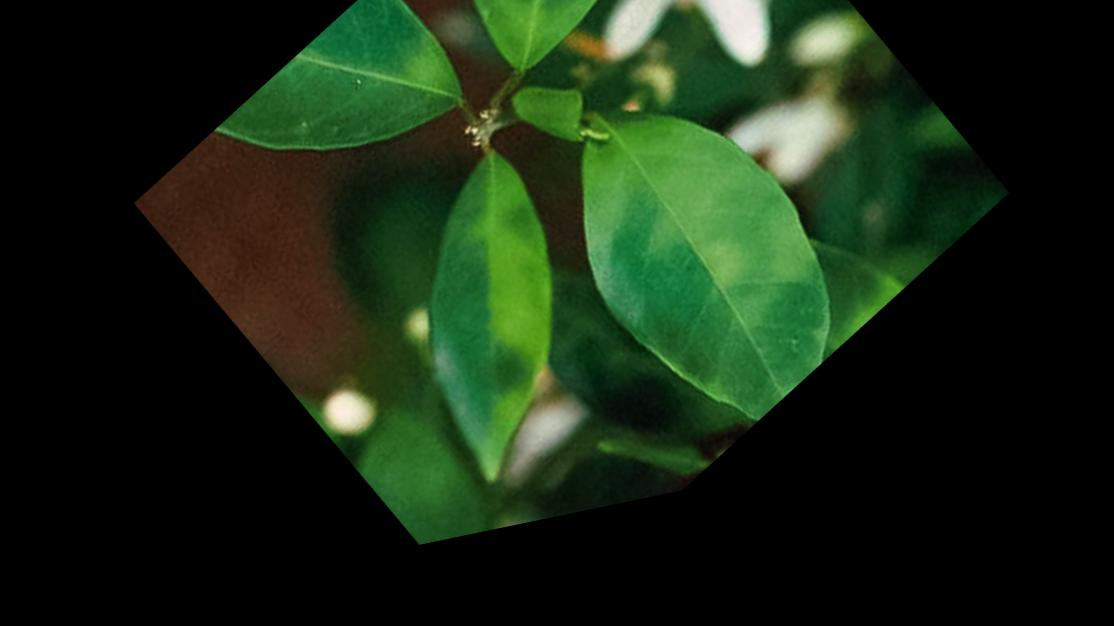Citrus Greening: (495, 38, 882, 517), (317, 139, 657, 537), (177, 0, 492, 302), (408, 0, 752, 122)
